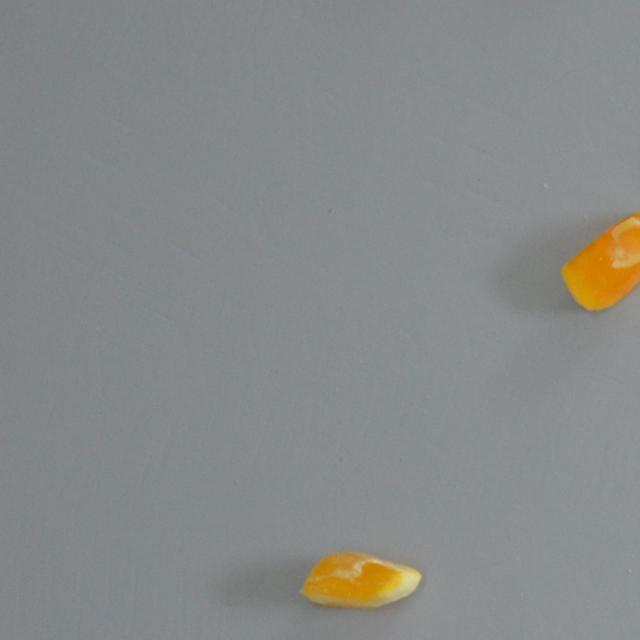pelicula: (558, 207, 640, 315), (298, 550, 422, 612)
